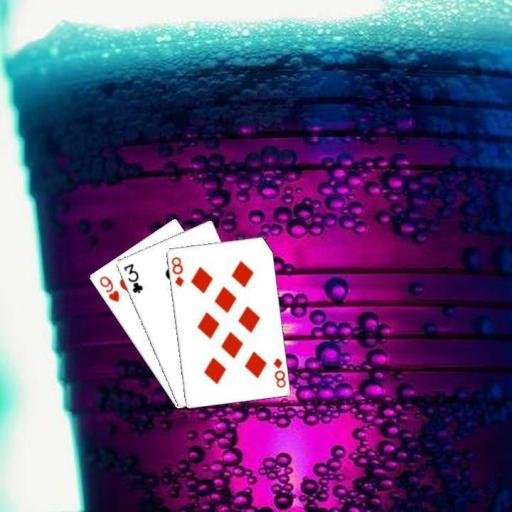card-corner: (120, 260, 144, 294), (96, 272, 121, 304), (168, 253, 185, 288), (270, 354, 287, 389)
